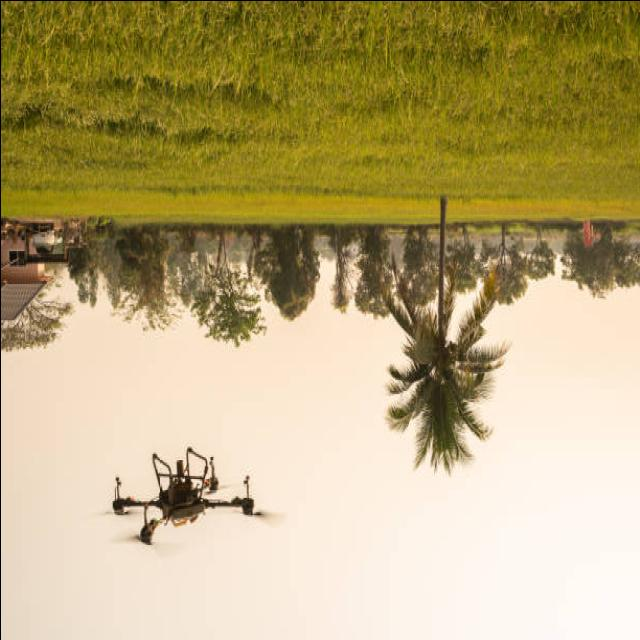drone: (99, 447, 284, 547)
